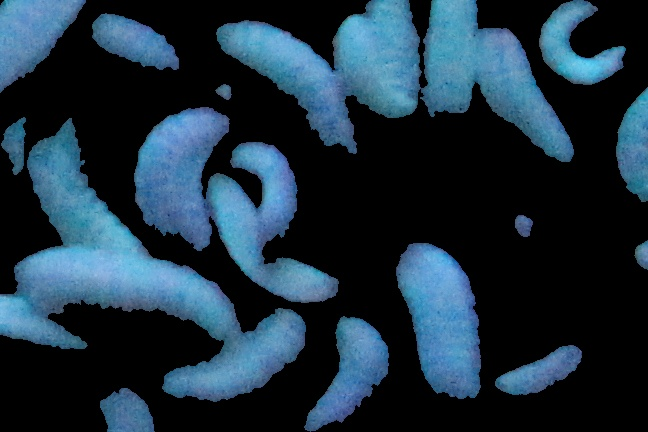larvae: (15, 245, 242, 349), (214, 19, 358, 156), (209, 174, 338, 301), (28, 118, 141, 243), (396, 241, 482, 399), (160, 307, 306, 399), (475, 23, 573, 159), (135, 107, 229, 248), (307, 315, 389, 429), (1, 1, 85, 96), (542, 1, 625, 83), (363, 1, 421, 116), (421, 1, 475, 113), (233, 142, 296, 235), (93, 15, 181, 72), (1, 293, 90, 349), (494, 344, 583, 396), (615, 85, 648, 207), (332, 13, 376, 90)
